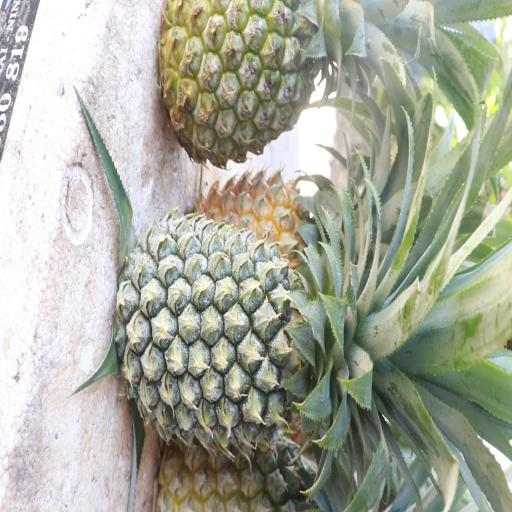------------------------------: (162, 0, 360, 162)
